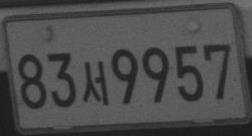3: (47, 52, 75, 107)
5: (174, 45, 204, 102)
7: (204, 44, 230, 99)
8: (17, 53, 47, 109)
9: (141, 46, 169, 103), (110, 48, 138, 103)
서: (81, 60, 109, 106)
